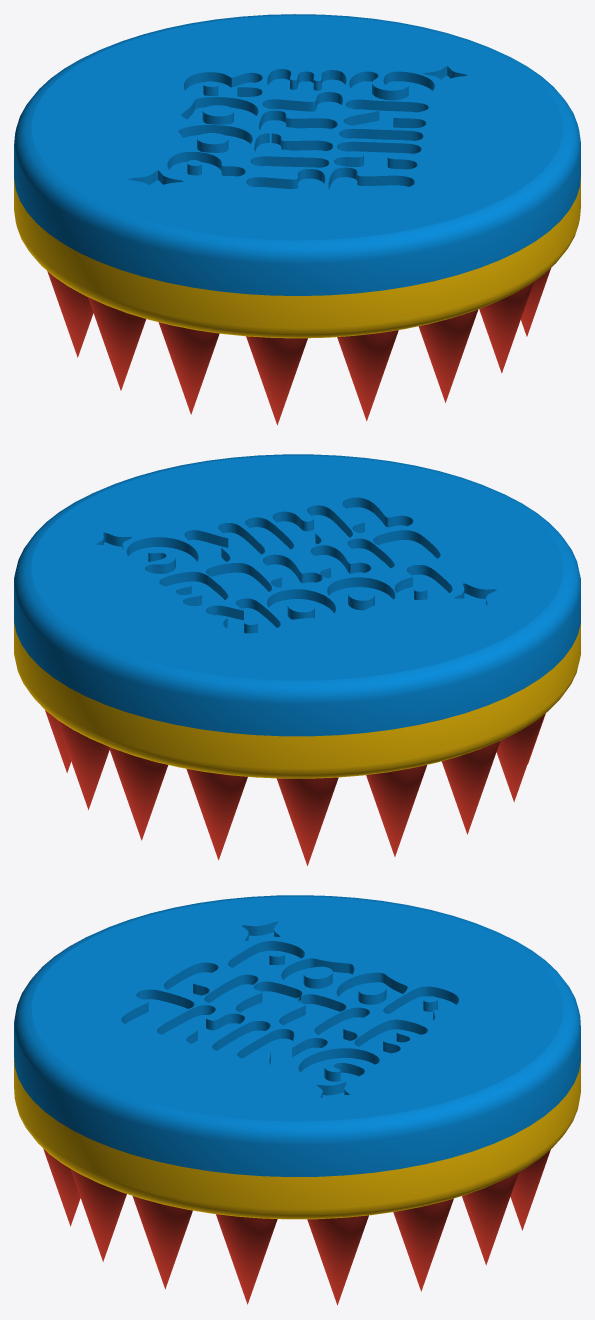
File: single-sided-spike-cap.glb
3 renders of one model, top to bottom at view 1: azimuth 30°, elevation 25°; view 2: azimuth 150°, elevation 25°; view 3: azimuth 270°, elevation 25°, orthographic.
Parts seen in each view (by area): view 1: single-sided-spike-cap-part-001, single-sided-spike-cap-part-002, single-sided-spike-cap-part-011, single-sided-spike-cap-part-012, single-sided-spike-cap-part-010, single-sided-spike-cap-part-013, single-sided-spike-cap-part-009, single-sided-spike-cap-part-014, single-sided-spike-cap-part-008, single-sided-spike-cap-part-015; view 2: single-sided-spike-cap-part-001, single-sided-spike-cap-part-002, single-sided-spike-cap-part-006, single-sided-spike-cap-part-005, single-sided-spike-cap-part-007, single-sided-spike-cap-part-004, single-sided-spike-cap-part-008, single-sided-spike-cap-part-003, single-sided-spike-cap-part-009; view 3: single-sided-spike-cap-part-001, single-sided-spike-cap-part-002, single-sided-spike-cap-part-017, single-sided-spike-cap-part-016, single-sided-spike-cap-part-018, single-sided-spike-cap-part-015, single-sided-spike-cap-part-003, single-sided-spike-cap-part-014, single-sided-spike-cap-part-004, single-sided-spike-cap-part-013.
Boxes of the visible parts, x1=… form: single-sided-spike-cap-part-001: x1=14, y1=14, x2=580, y2=295; single-sided-spike-cap-part-002: x1=14, y1=177, x2=580, y2=338; single-sided-spike-cap-part-011: x1=246, y1=336, x2=307, y2=425; single-sided-spike-cap-part-012: x1=337, y1=330, x2=398, y2=421; single-sided-spike-cap-part-010: x1=158, y1=322, x2=219, y2=414; single-sided-spike-cap-part-013: x1=418, y1=309, x2=478, y2=402; single-sided-spike-cap-part-009: x1=88, y1=297, x2=146, y2=390; single-sided-spike-cap-part-014: x1=479, y1=282, x2=533, y2=373; single-sided-spike-cap-part-008: x1=47, y1=271, x2=93, y2=357; single-sided-spike-cap-part-015: x1=521, y1=268, x2=550, y2=336; single-sided-spike-cap-part-001: x1=14, y1=454, x2=580, y2=736; single-sided-spike-cap-part-002: x1=14, y1=623, x2=580, y2=778; single-sided-spike-cap-part-006: x1=276, y1=777, x2=338, y2=865; single-sided-spike-cap-part-005: x1=186, y1=768, x2=247, y2=860; single-sided-spike-cap-part-007: x1=366, y1=765, x2=426, y2=856; single-sided-spike-cap-part-004: x1=109, y1=747, x2=168, y2=840; single-sided-spike-cap-part-008: x1=441, y1=741, x2=500, y2=834; single-sided-spike-cap-part-003: x1=56, y1=719, x2=109, y2=809; single-sided-spike-cap-part-009: x1=496, y1=714, x2=544, y2=802; single-sided-spike-cap-part-001: x1=14, y1=895, x2=580, y2=1176; single-sided-spike-cap-part-002: x1=14, y1=1057, x2=580, y2=1219; single-sided-spike-cap-part-017: x1=307, y1=1215, x2=368, y2=1305; single-sided-spike-cap-part-016: x1=216, y1=1214, x2=277, y2=1304; single-sided-spike-cap-part-018: x1=393, y1=1198, x2=453, y2=1291; single-sided-spike-cap-part-015: x1=132, y1=1196, x2=192, y2=1289; single-sided-spike-cap-part-003: x1=462, y1=1172, x2=518, y2=1265; single-sided-spike-cap-part-014: x1=70, y1=1169, x2=126, y2=1261; single-sided-spike-cap-part-004: x1=510, y1=1149, x2=550, y2=1230; single-sided-spike-cap-part-013: x1=43, y1=1148, x2=80, y2=1226.
Size of the model in its own units: 3 by 1.17 by 3.
